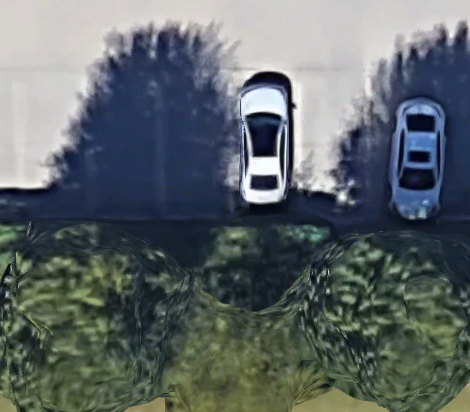Occupied: (367, 75, 438, 221), (227, 75, 297, 221)
Vacant: (86, 76, 164, 221), (12, 76, 90, 219), (294, 75, 370, 221), (159, 77, 232, 220)
